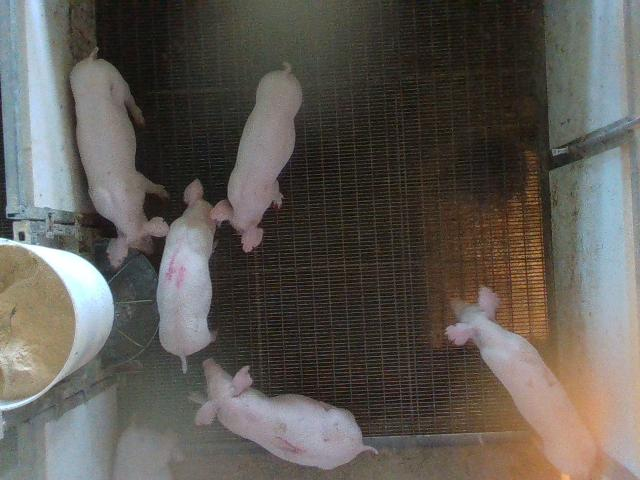pig-1: (196, 360, 378, 469)
pig-4: (156, 179, 216, 373)
